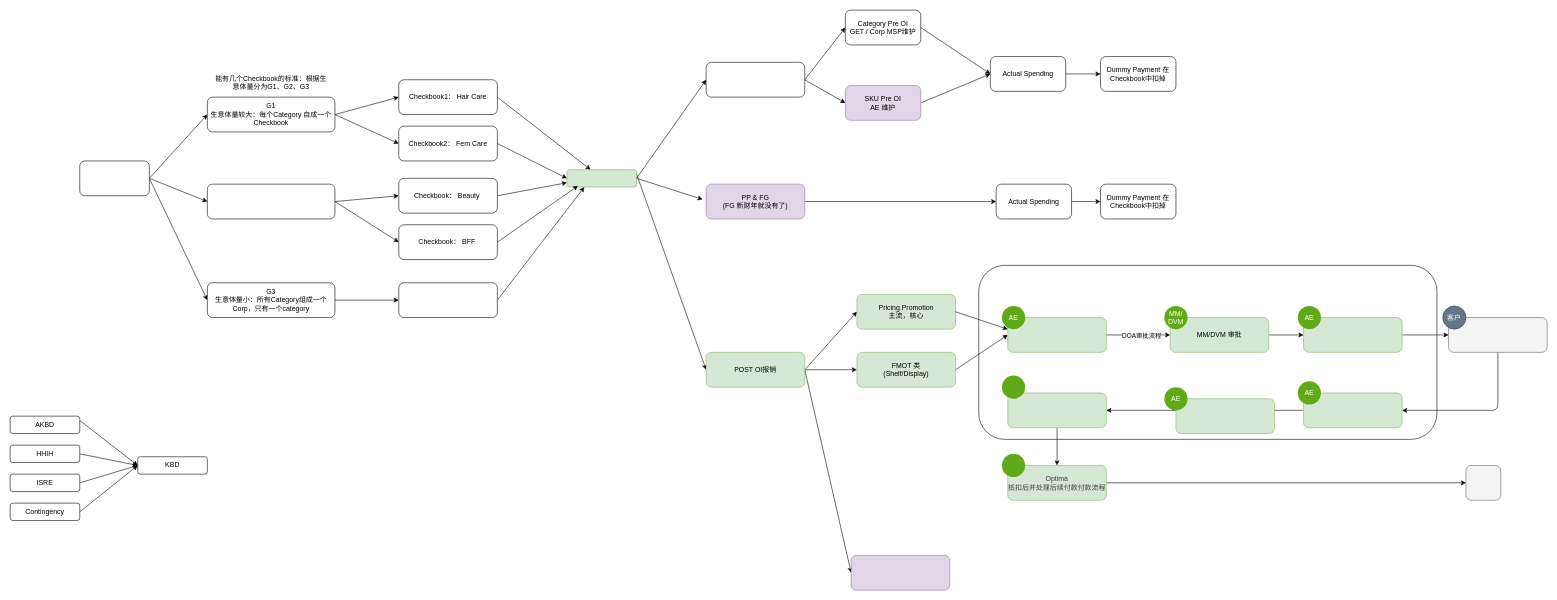
Some shapes in this 1557 by 600 pixel diagram are drawn without their labels. Each missing label, with the box of its shape:
AE创建PID (创建活动): (1007, 317, 1106, 352)
Auto POA Proof of Alignment: (1303, 317, 1402, 352)
Auto POP Proof of Performance Pricing: POS FMOT: GH&Distribution: (1303, 392, 1402, 428)
Checkbook： Corp: (398, 282, 497, 318)
Fund Accound FID Banner/Banner Region/RD: (79, 160, 149, 196)
Fund Type： KBD: (566, 169, 637, 187)
G2 生意体量中等：几个Category组成一个Sector，可以有多个sector: (207, 184, 335, 219)
IAG: (1002, 375, 1025, 398)
IAG（Internal Auditor Group） 审核: (1007, 392, 1106, 428)
Pay to Agency: (851, 555, 950, 590)
Pre OI下单抵扣: (706, 62, 805, 97)
Request Payment: (1175, 398, 1275, 434)
完成: (1465, 465, 1501, 500)
活动执行: (1448, 317, 1547, 352)
系统: (1002, 454, 1025, 477)
